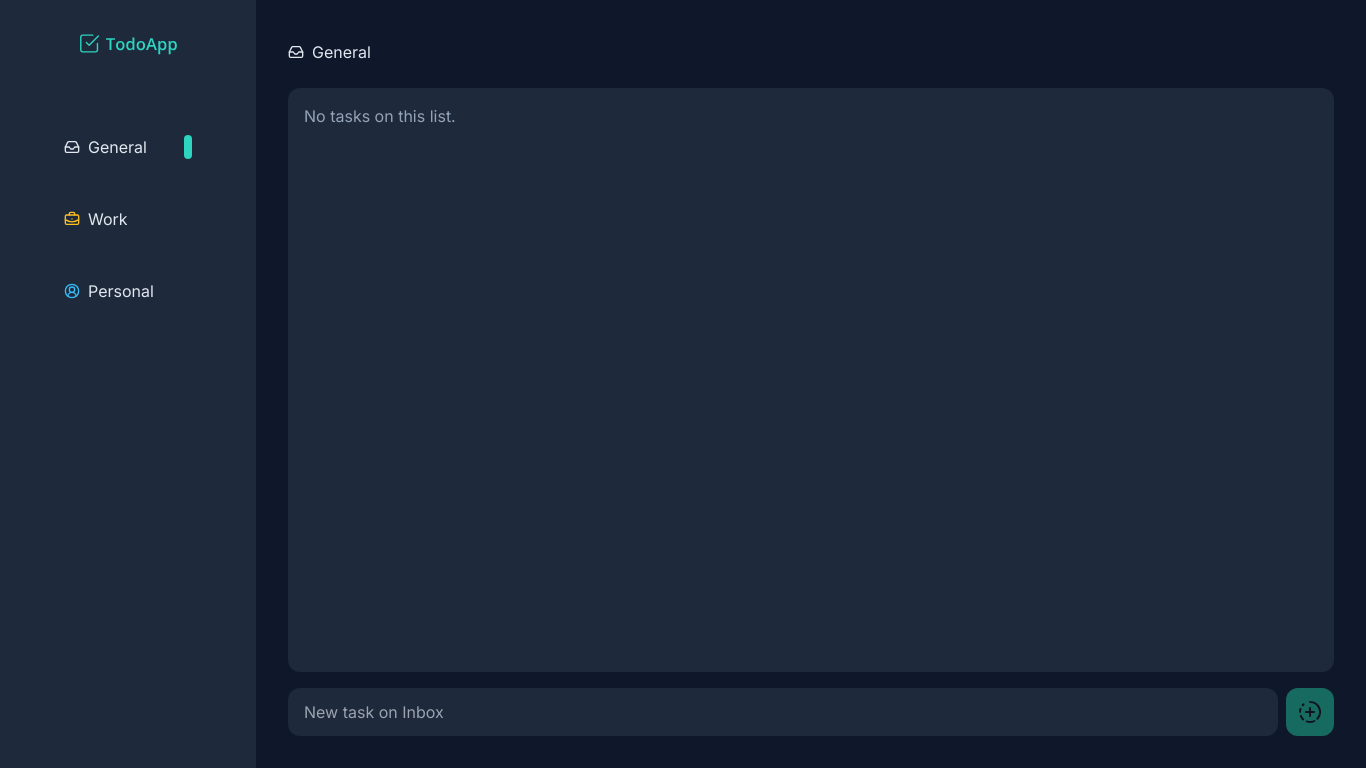
Test: Tasks › should toggle a task status
Type "Automatically created task 001" into the field named "task-title" at (783, 712), box x1=288 y1=688 x2=1278 y2=736
Then press Enter
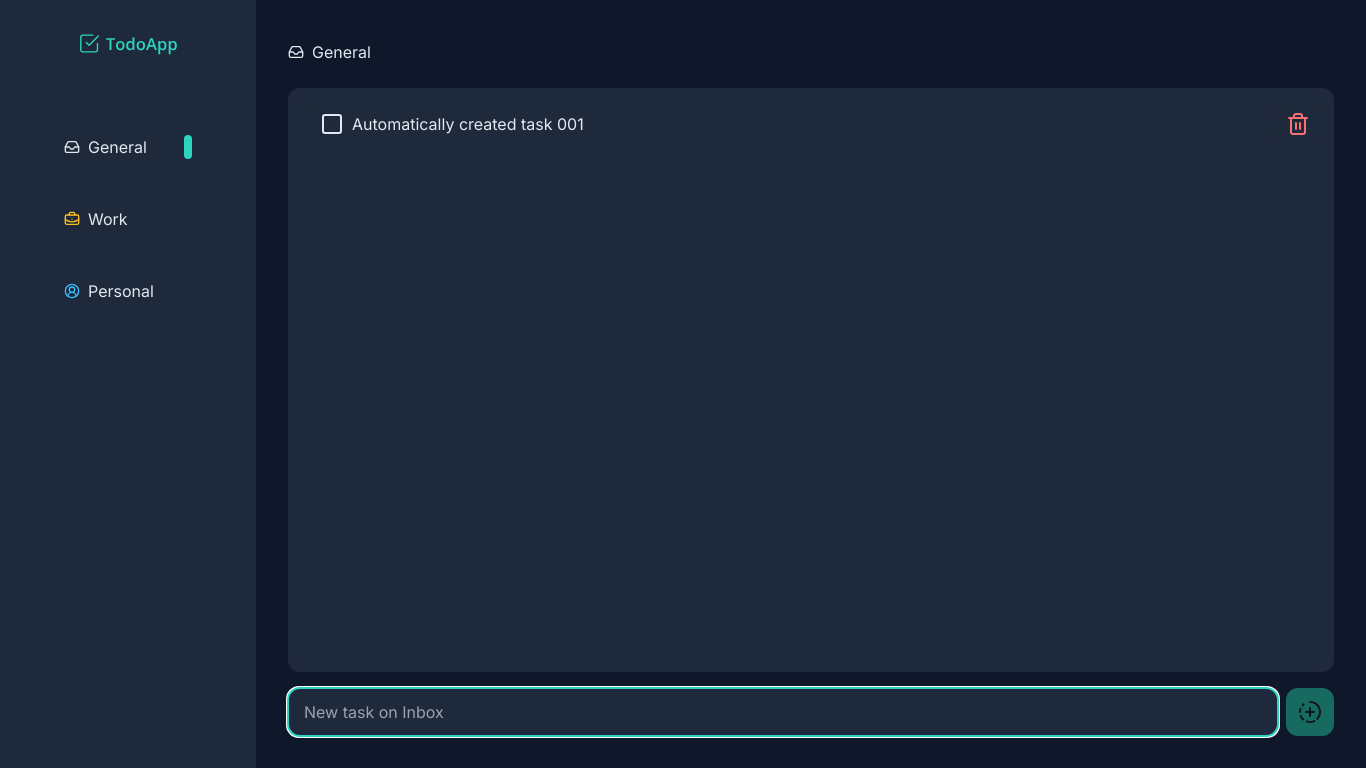
Open "/"
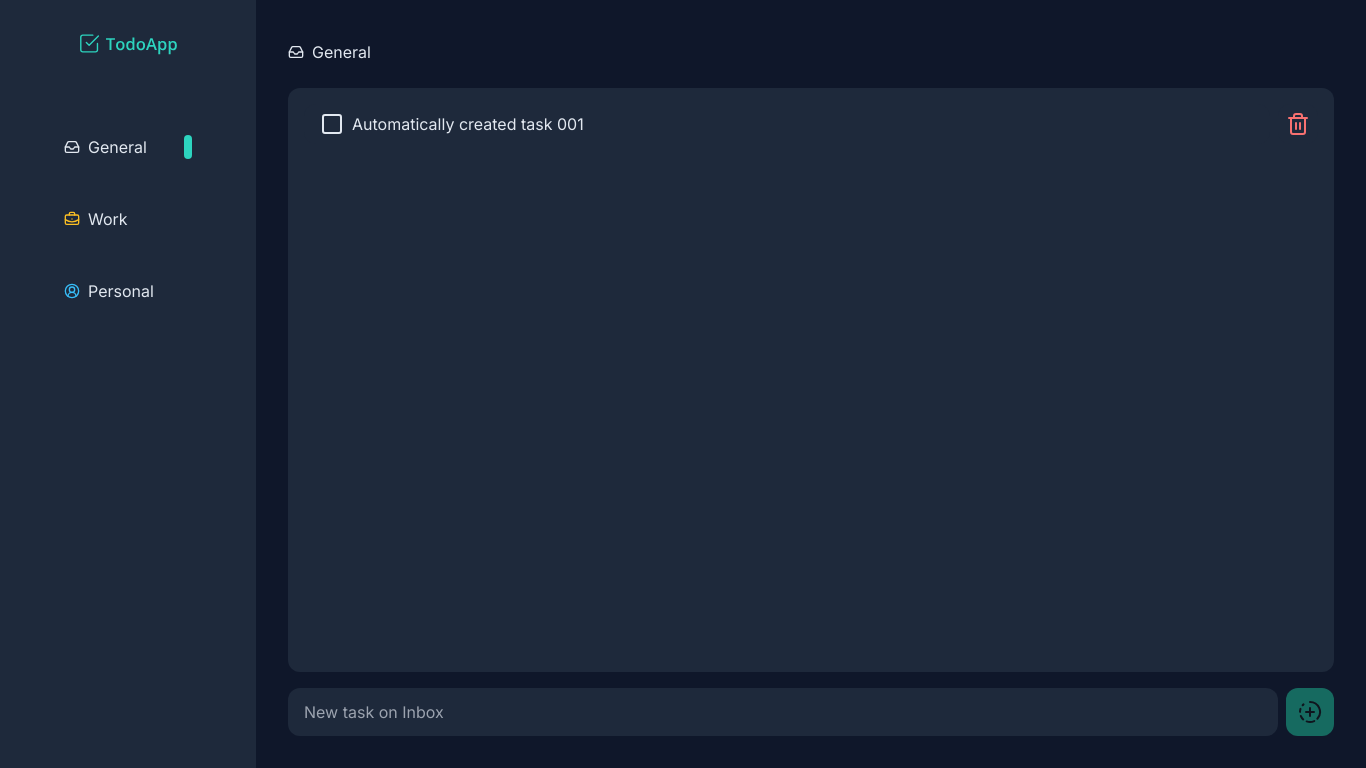
Click the button "Automatically created task 001" at (468, 124), box x1=304 y1=104 x2=1270 y2=144
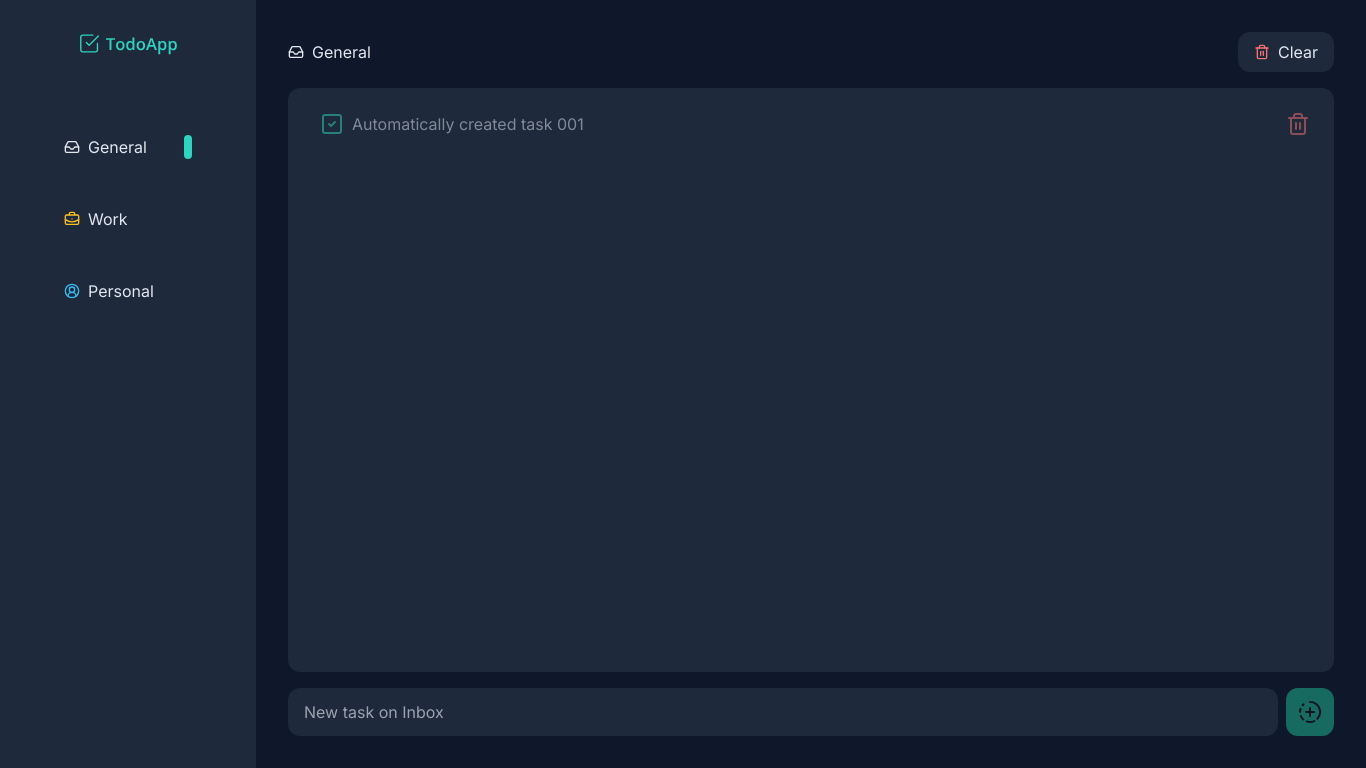
Now the icon with id "done-icon" is shown, box x1=320 y1=112 x2=344 y2=136
Click the button "Automatically created task 001" at (468, 124), box x1=304 y1=104 x2=1270 y2=144
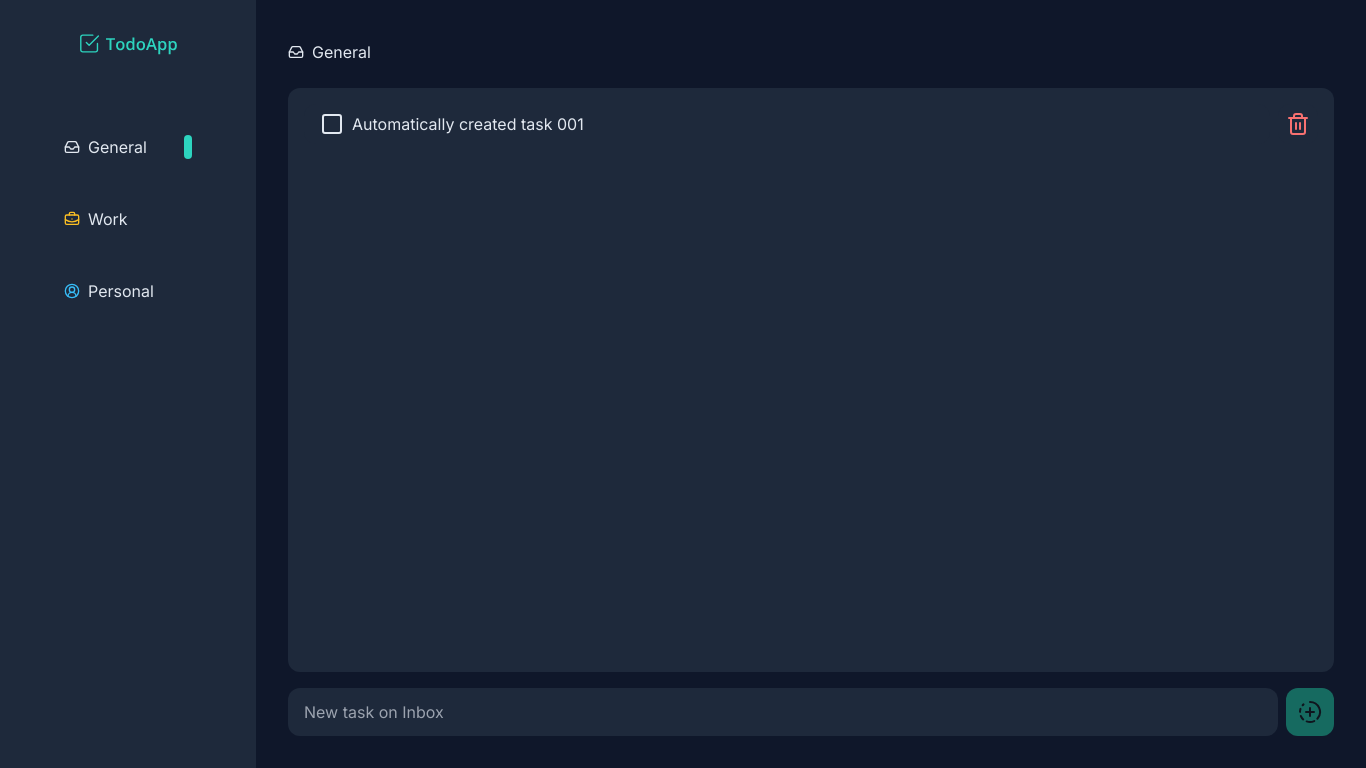
Now the icon with id "open-icon" is shown, box x1=320 y1=112 x2=344 y2=136
